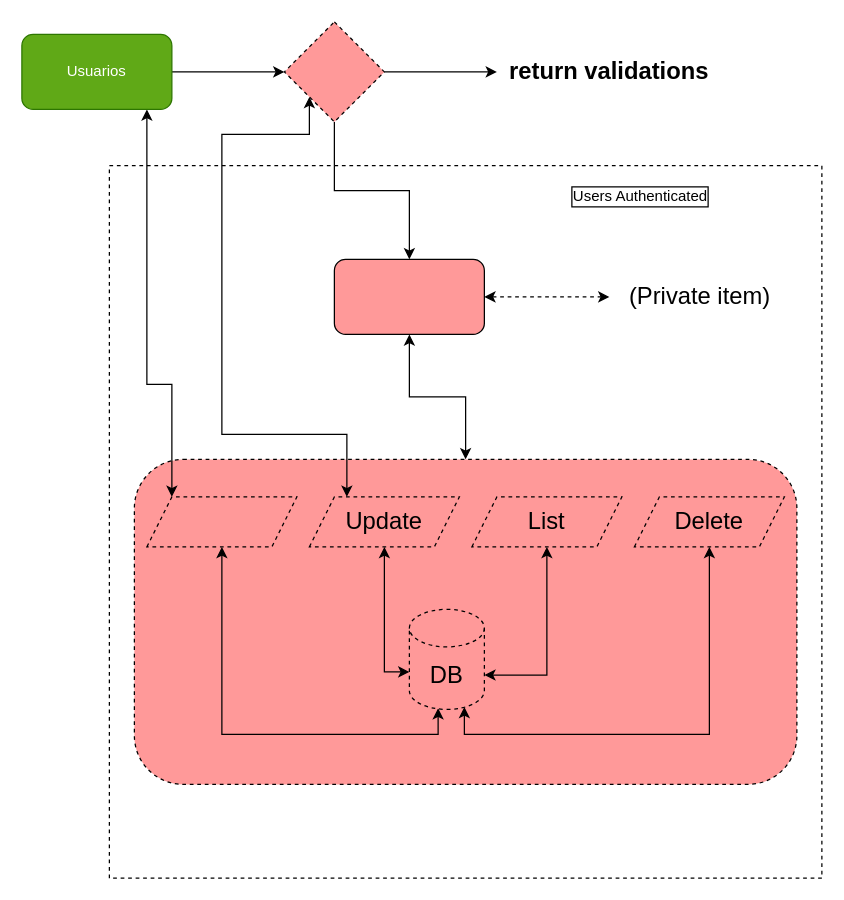
The diagram is 844 pixels wide and 900 high, and some of its shapes have lost their labels. Here are the shapes that lost their labels. From the top down, the box of each, then its label:
(283, 21, 384, 122): Valid ?
(333, 258, 484, 334): Movies
(146, 496, 297, 547): Create
